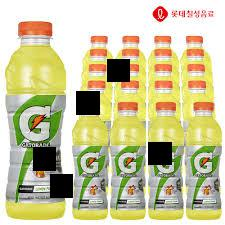gatorade_lemon: (5, 20, 66, 219), (109, 101, 147, 220), (186, 101, 222, 220), (72, 102, 108, 220), (149, 100, 184, 220)
